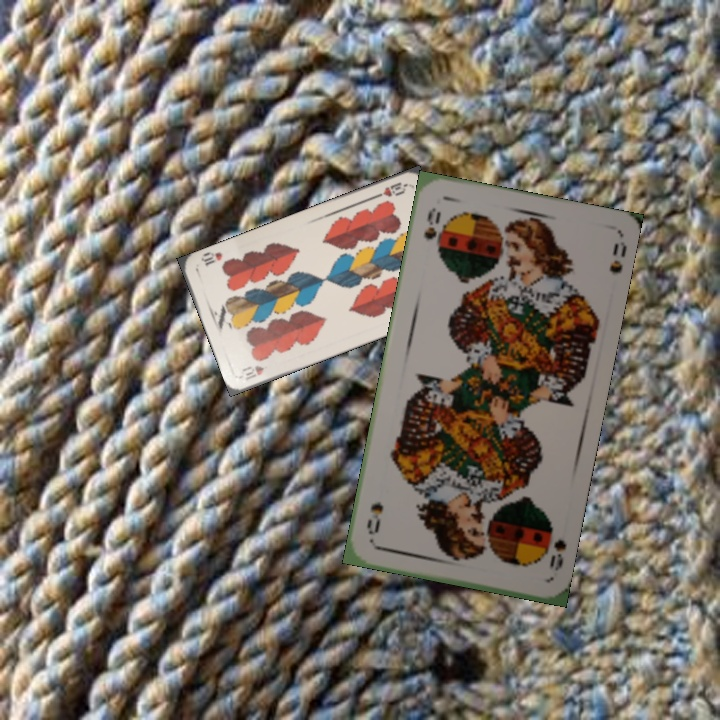H10: (371, 178, 410, 200), (238, 361, 266, 383)
SO: (420, 203, 444, 248), (545, 535, 569, 574)
